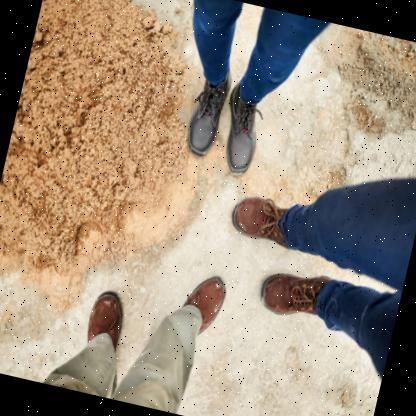bota: (212, 78, 272, 182), (180, 64, 236, 163)
